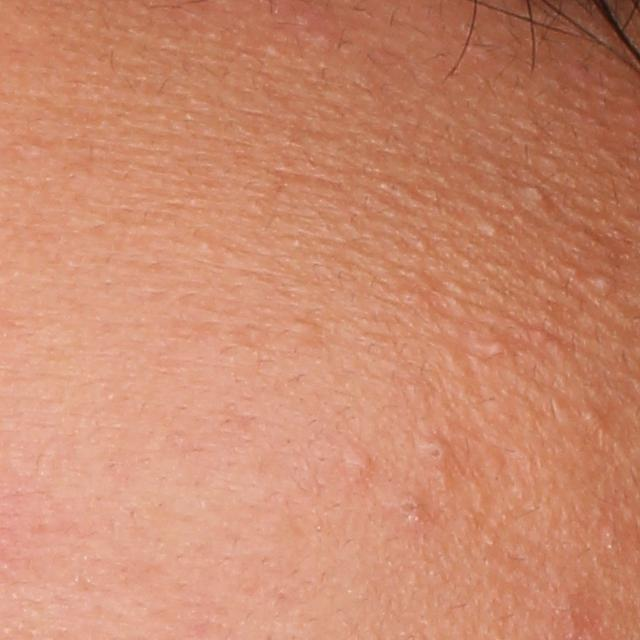comedo: (516, 181, 552, 216), (343, 445, 373, 485), (393, 491, 419, 522), (578, 402, 609, 427), (419, 440, 451, 464), (591, 273, 613, 295), (485, 339, 506, 355), (483, 220, 502, 237)
